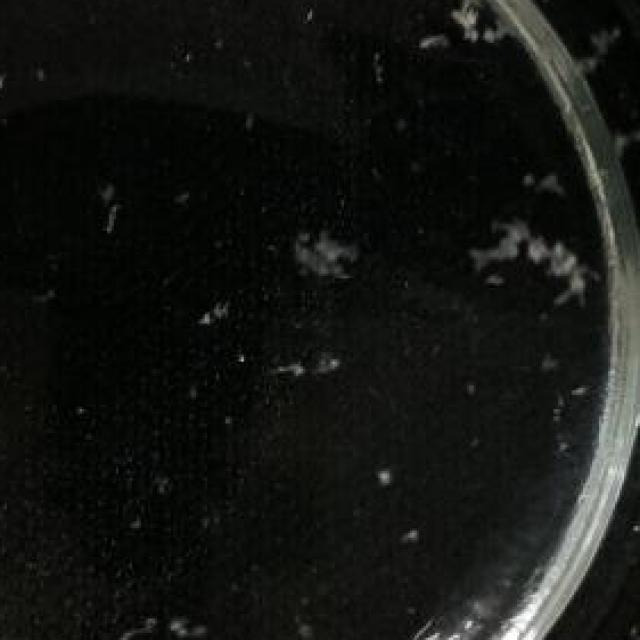Microplastic: (487, 209, 615, 338), (36, 571, 200, 640), (276, 193, 364, 276), (389, 0, 504, 62)
